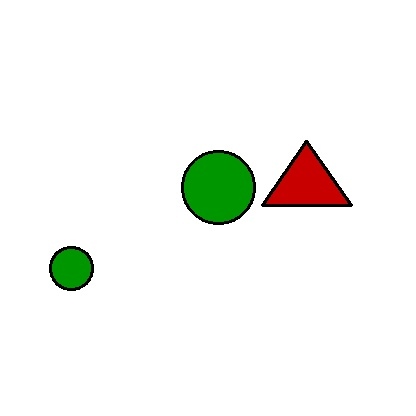circle: (177, 151, 260, 223), (50, 224, 93, 313)
triangle: (262, 141, 351, 205)
